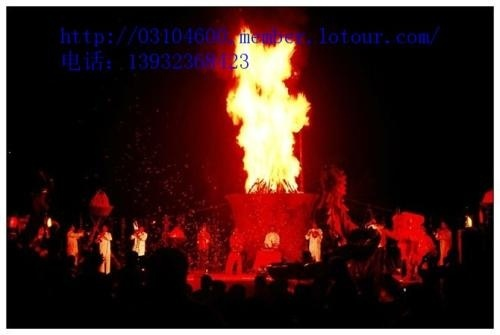fire: (224, 23, 311, 195)
